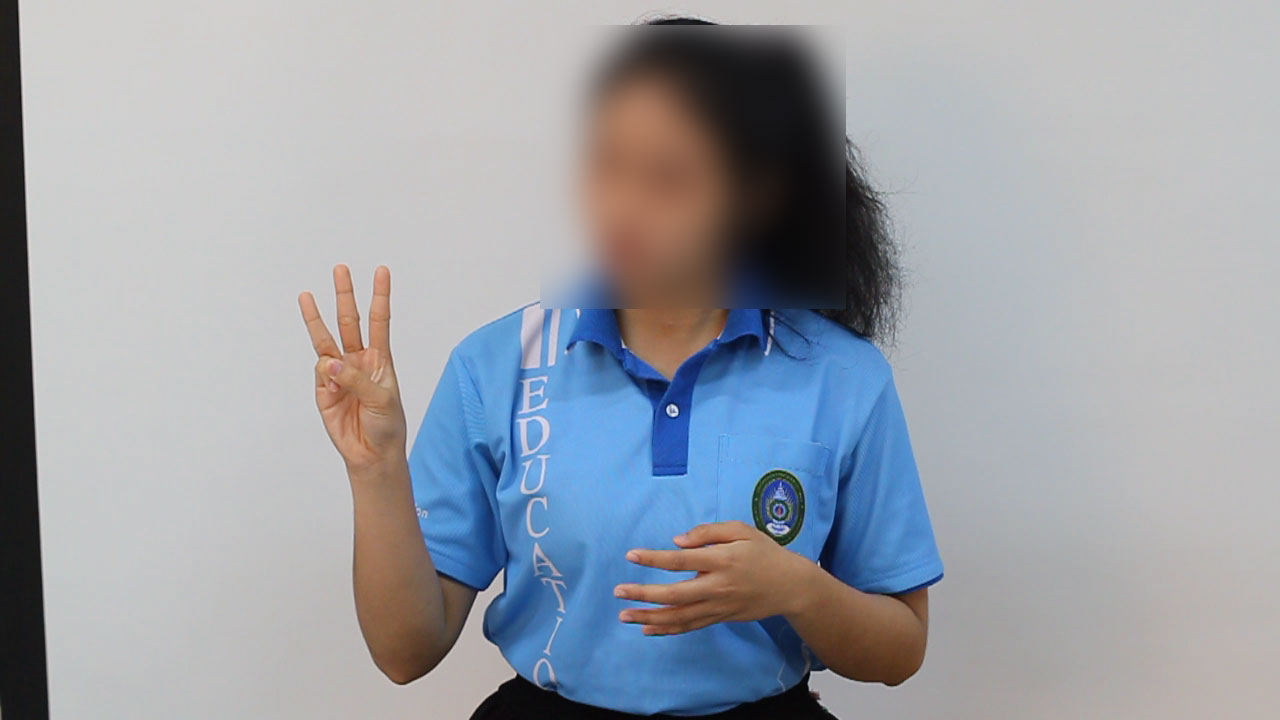wor: (294, 255, 413, 481)
